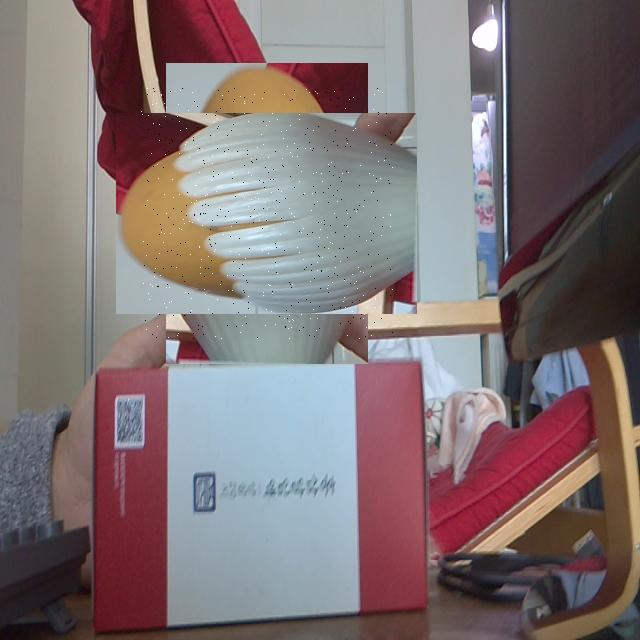pear: (141, 88, 393, 339)
